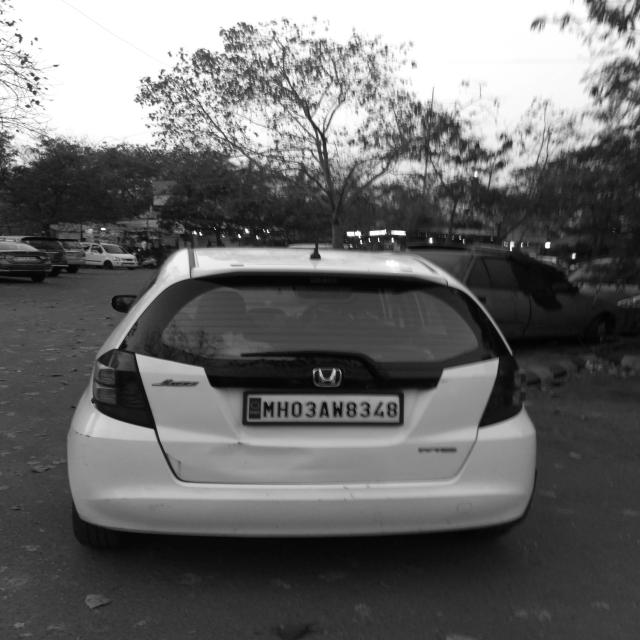car: (62, 242, 540, 558)
license-plate: (242, 392, 408, 430)
